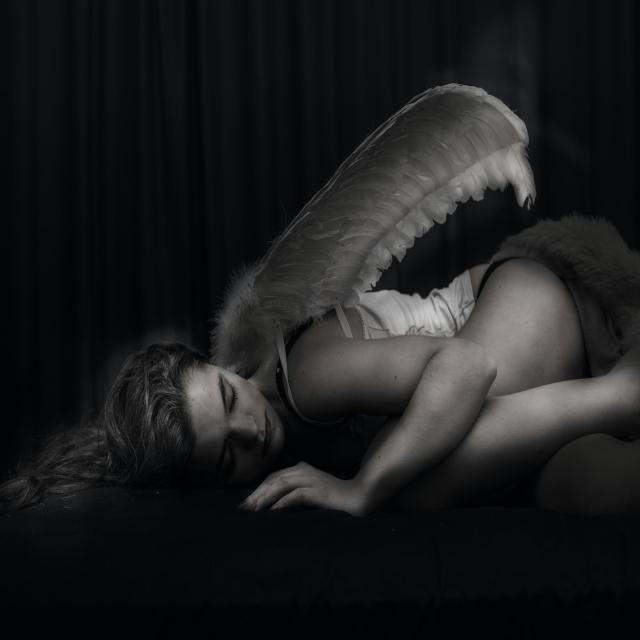adult: (129, 248, 640, 518)
